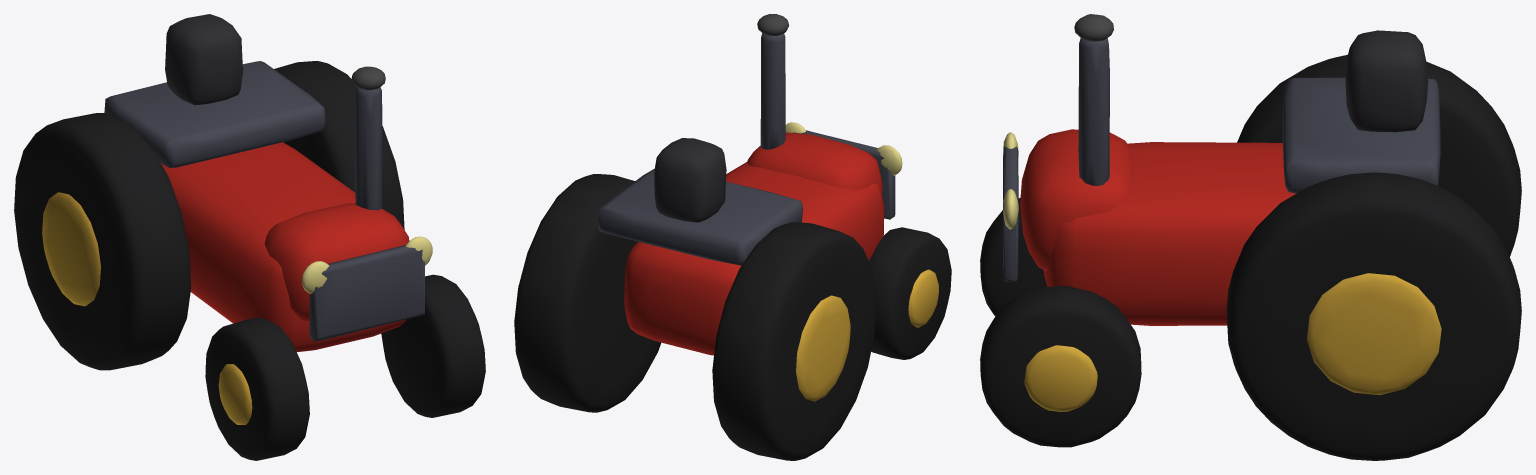
The model's file is Traktor.fbx.
3 renders of one model, left to right at view 1: azimuth 30°, elevation 25°; view 2: azimuth 150°, elevation 25°; view 3: azimuth 270°, elevation 25°, orthographic. The views are drawn at different scales.
Parts seen in each view (by area): view 1: Traktor; view 2: Traktor; view 3: Traktor.
Part boxes in pixels (x1=…): Traktor: x1=14, y1=14, x2=485, y2=460; Traktor: x1=514, y1=14, x2=951, y2=460; Traktor: x1=980, y1=14, x2=1521, y2=460.
Size of the model in its own units: 0.9092 by 1.04 by 1.3.
